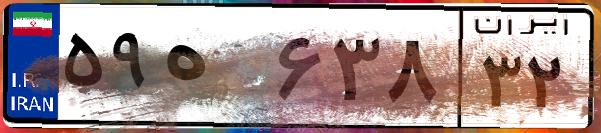2: (525, 38, 570, 115)
3: (330, 28, 385, 110), (475, 38, 525, 113)
5: (57, 26, 110, 100)
6: (270, 28, 330, 110)
8: (385, 28, 445, 110)
9: (110, 28, 158, 98)
ه: (158, 20, 270, 120)
